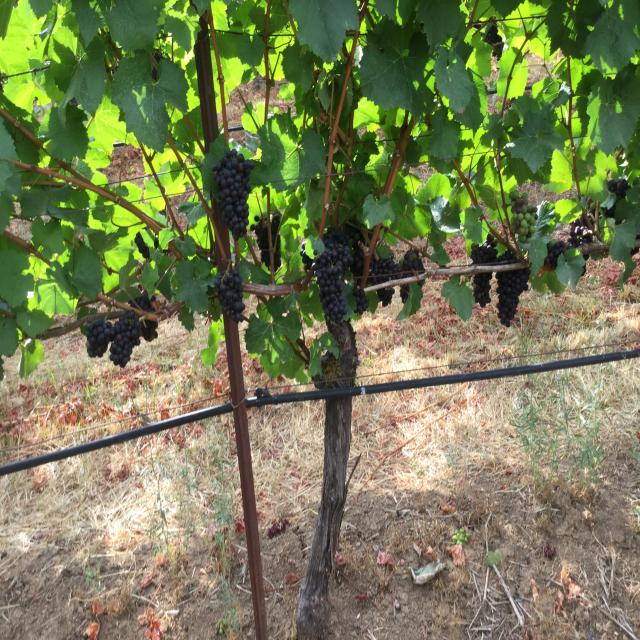grapes: (301, 228, 354, 323), (212, 148, 254, 240), (496, 268, 530, 327), (110, 312, 141, 368), (214, 267, 245, 323), (510, 192, 536, 243), (86, 318, 114, 358), (250, 215, 271, 268), (369, 255, 401, 285), (348, 232, 365, 278), (472, 273, 492, 308), (401, 248, 425, 277), (544, 240, 568, 268), (270, 213, 281, 272), (470, 240, 498, 263), (354, 292, 369, 315), (378, 288, 395, 307), (498, 250, 518, 262), (400, 285, 410, 303), (419, 280, 424, 288)
